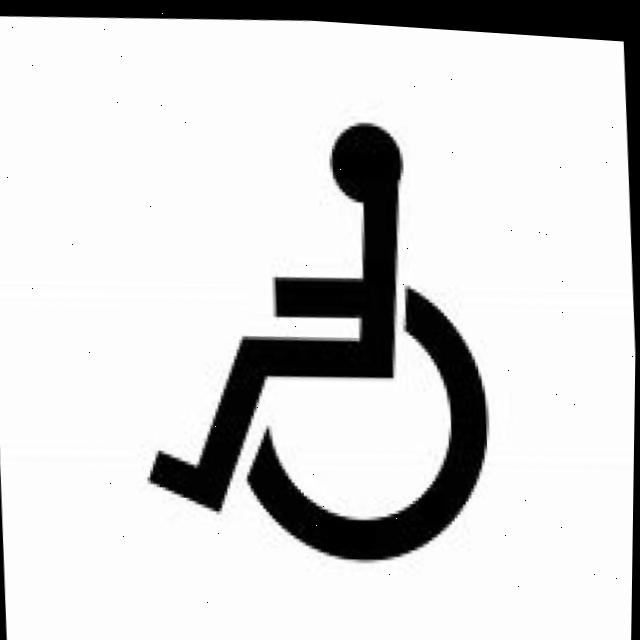symbol_of_access: (122, 90, 508, 582)
